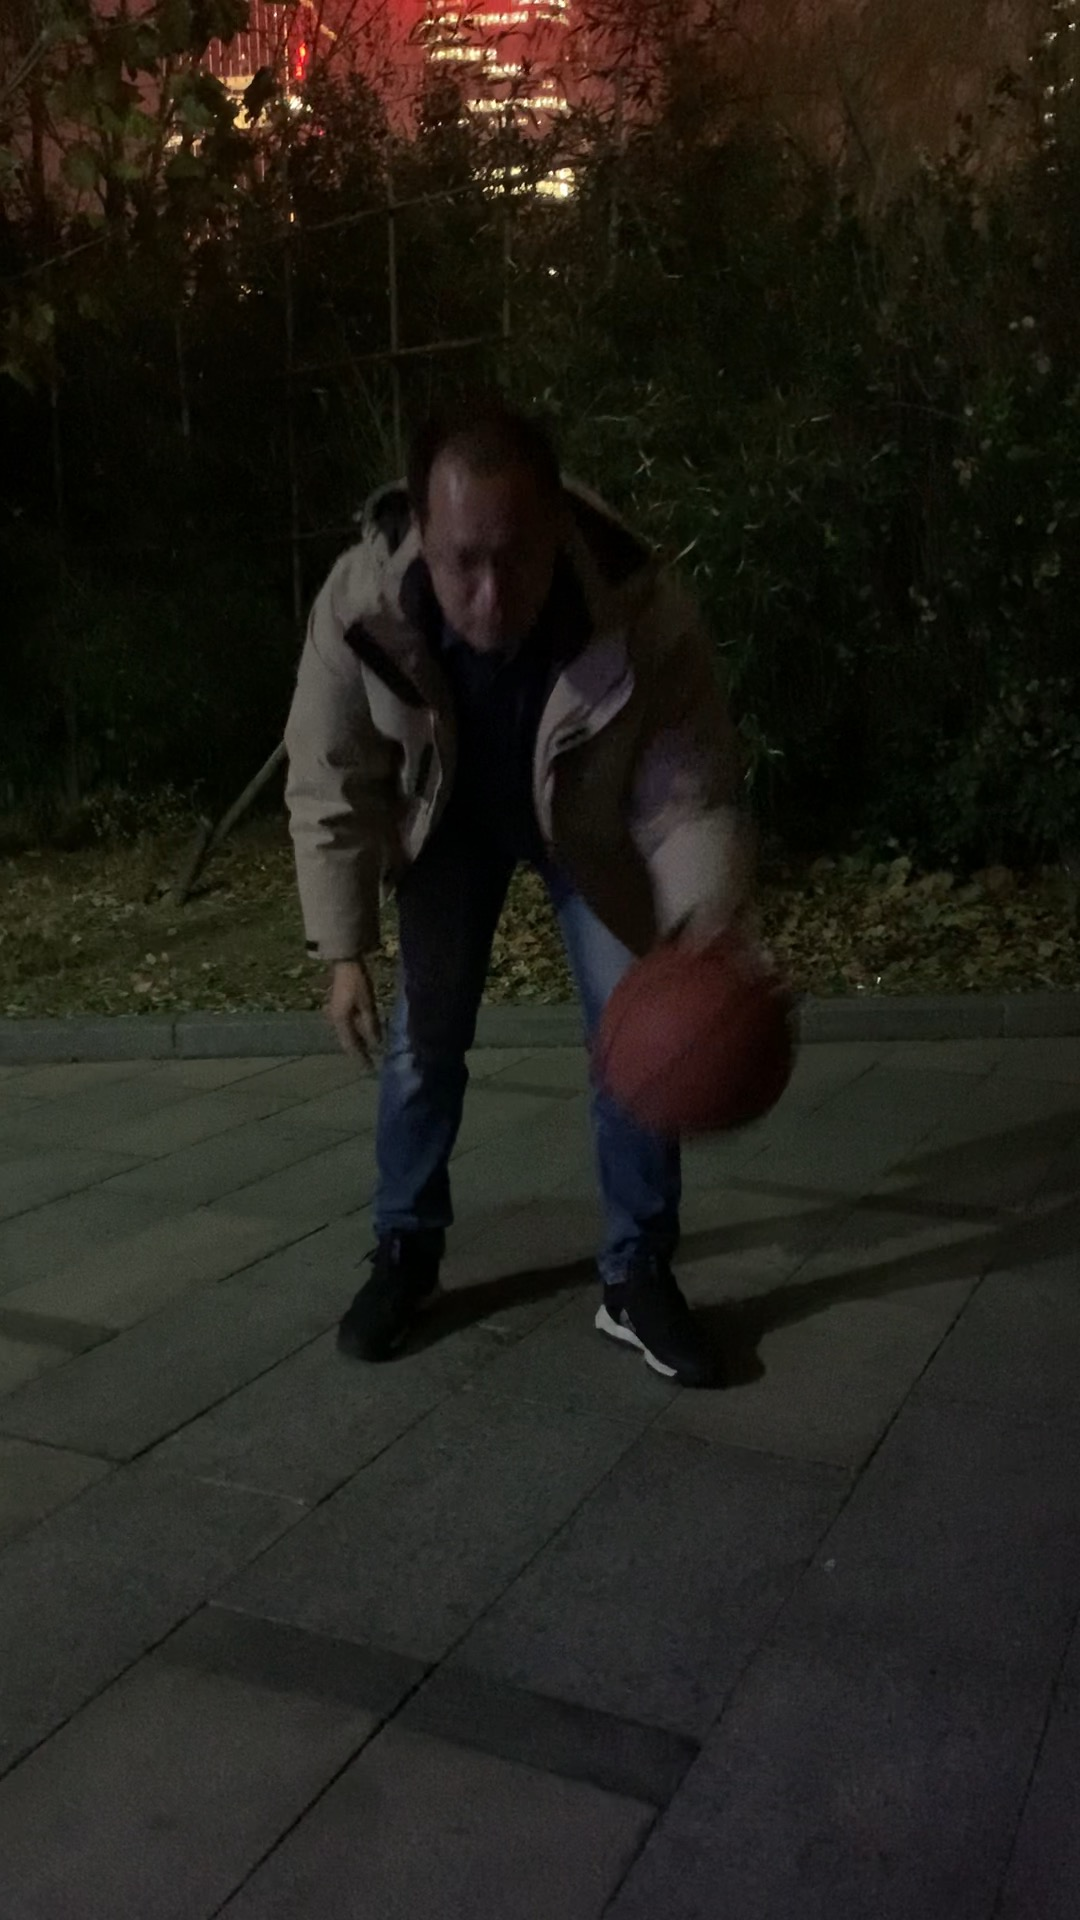ball: (597, 942, 796, 1137)
